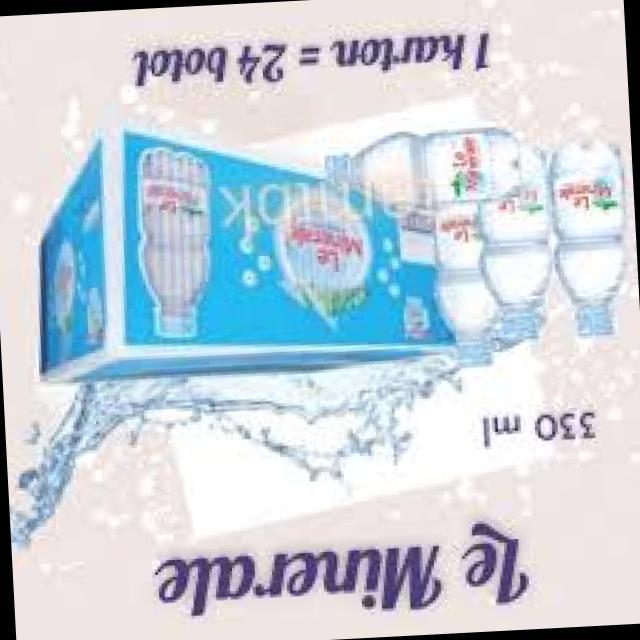good: (300, 111, 564, 202), (418, 178, 508, 384), (542, 139, 622, 348), (473, 153, 551, 342)
